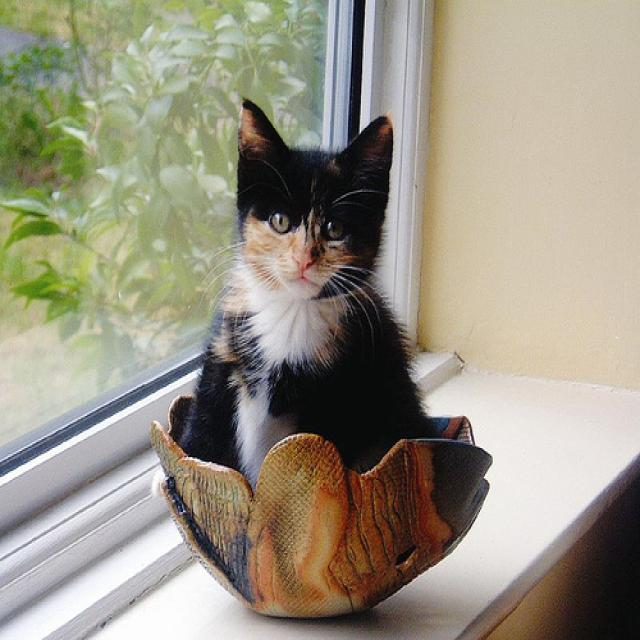left eye: (320, 214, 346, 242)
